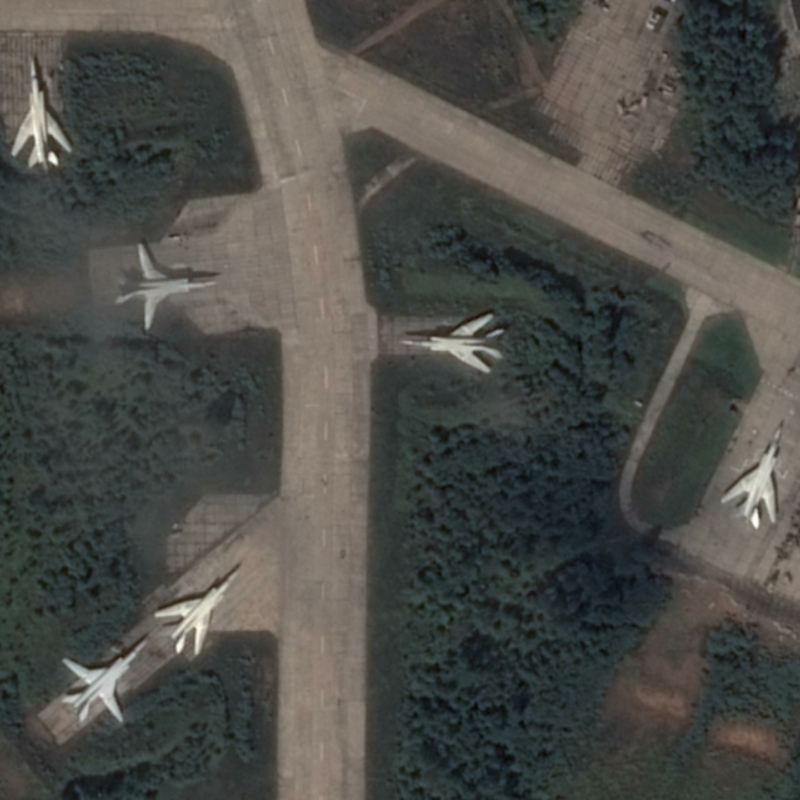A12: (110, 239, 220, 335), (149, 563, 244, 658), (58, 632, 152, 728), (7, 54, 75, 175), (718, 420, 787, 531), (396, 310, 508, 374)
